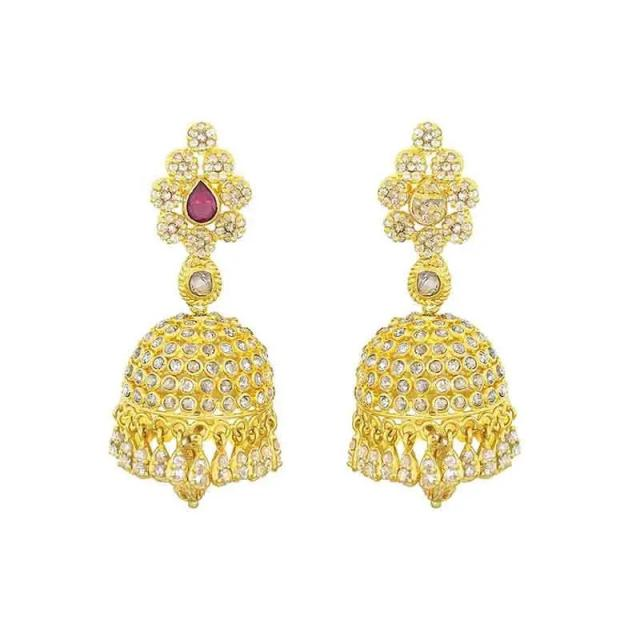missing gem: (413, 180, 444, 223)
